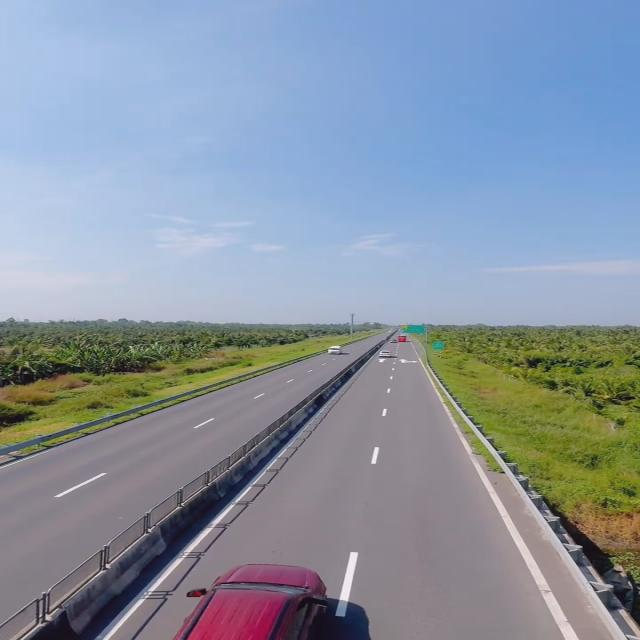car: (166, 560, 334, 637)
